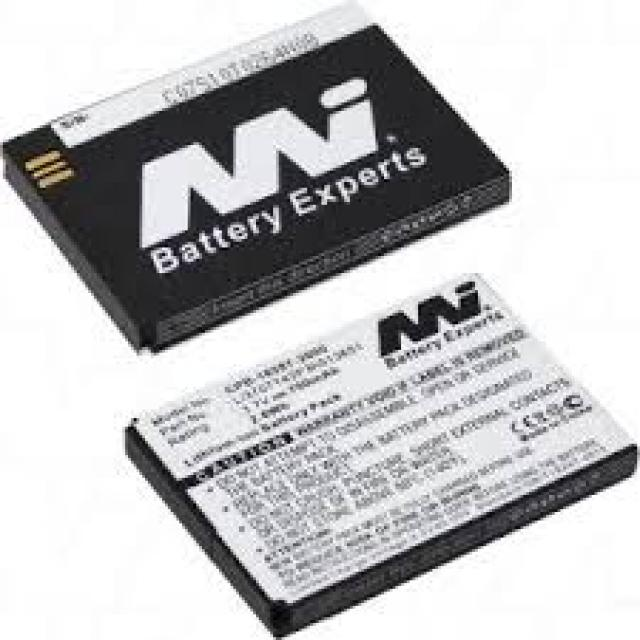non-organic waste: (121, 268, 640, 639), (0, 3, 509, 355)
